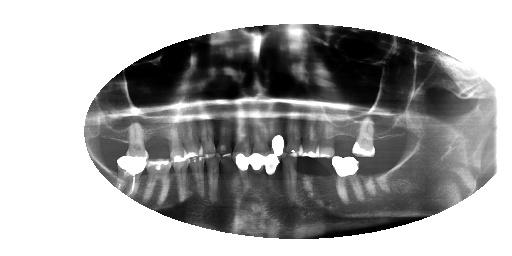Fillings: (329, 155, 359, 203), (145, 158, 172, 206), (351, 118, 376, 157), (299, 117, 319, 157), (168, 124, 187, 163), (250, 154, 266, 190), (264, 154, 281, 187), (235, 154, 250, 191), (271, 119, 284, 155)
Implant: (116, 155, 146, 198)
